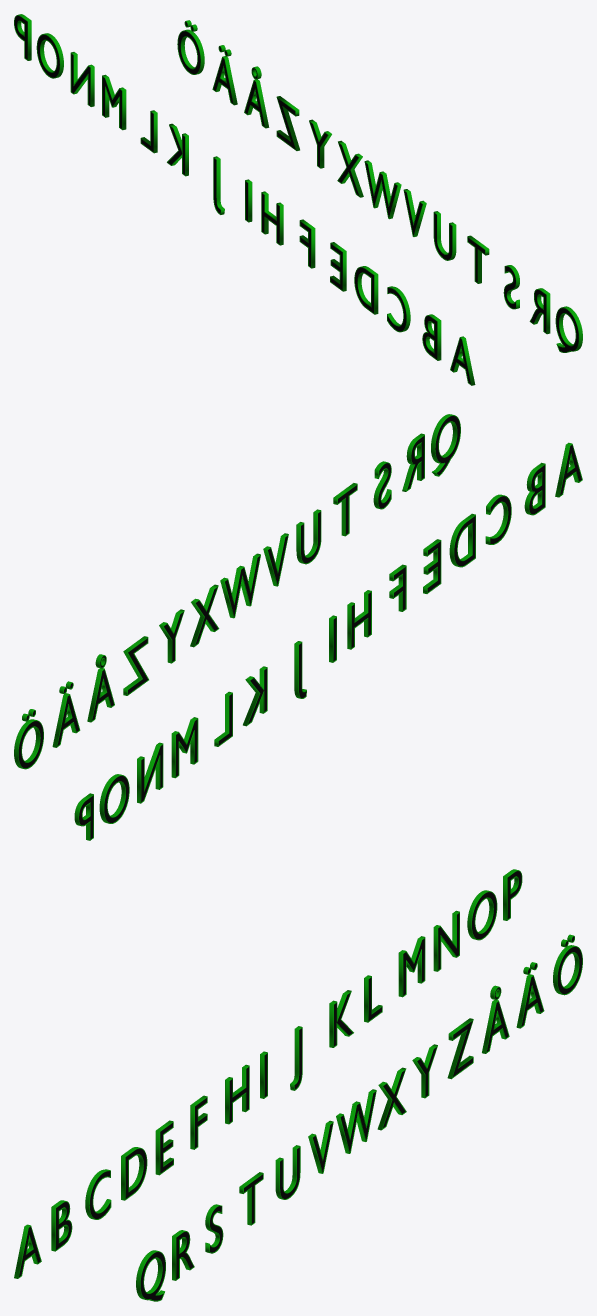
The model's file is Alphabet.fbx.
The picture shows the model from 3 angles, top to bottom: view 1: azimuth 30°, elevation 25°; view 2: azimuth 150°, elevation 25°; view 3: azimuth 330°, elevation 25°; orthographic projection. The views are drawn at different scales.
Visible parts, largest first — view 1: W, ö, M, Q, N, D, H, O, Å, B, ä, U (+11 smaller); view 2: W, N, M, Q, ö, O, D, Å, B, ä, U, H (+13 smaller); view 3: W, M, ö, Q, N, O, D, Å, ä, B, U, H (+14 smaller).
Boxes of the visible parts, box(x1,y1,x2,y2) form: W: box(364, 160, 401, 219); ö: box(177, 20, 204, 74); M: box(102, 74, 126, 130); Q: box(555, 306, 582, 352); N: box(70, 52, 94, 106); D: box(354, 266, 378, 314); H: box(261, 191, 283, 245); O: box(36, 33, 63, 78); Å: box(244, 66, 269, 128); B: box(422, 314, 441, 360); ä: box(212, 45, 237, 105); U: box(433, 211, 456, 260); W: box(220, 553, 260, 618); N: box(137, 742, 163, 803); M: box(171, 717, 198, 778); Q: box(431, 414, 460, 476); ö: box(14, 709, 43, 769); O: box(99, 774, 129, 823); D: box(449, 513, 475, 567); Å: box(87, 654, 114, 722); B: box(524, 462, 545, 515); ä: box(52, 681, 80, 747); U: box(296, 509, 321, 564); H: box(347, 590, 371, 649); W: box(336, 1089, 376, 1153); M: box(398, 936, 425, 997); ö: box(553, 934, 582, 995); Q: box(136, 1250, 165, 1301); N: box(433, 910, 459, 971); O: box(467, 890, 497, 940); D: box(121, 1147, 147, 1200); Å: box(482, 985, 509, 1053); ä: box(516, 962, 544, 1028); B: box(51, 1200, 72, 1251); U: box(275, 1145, 300, 1199); H: box(225, 1064, 249, 1124).
Size of the model in its own units: 207 by 116 by 1452.
